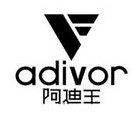adidas Fake: (12, 9, 131, 107)
